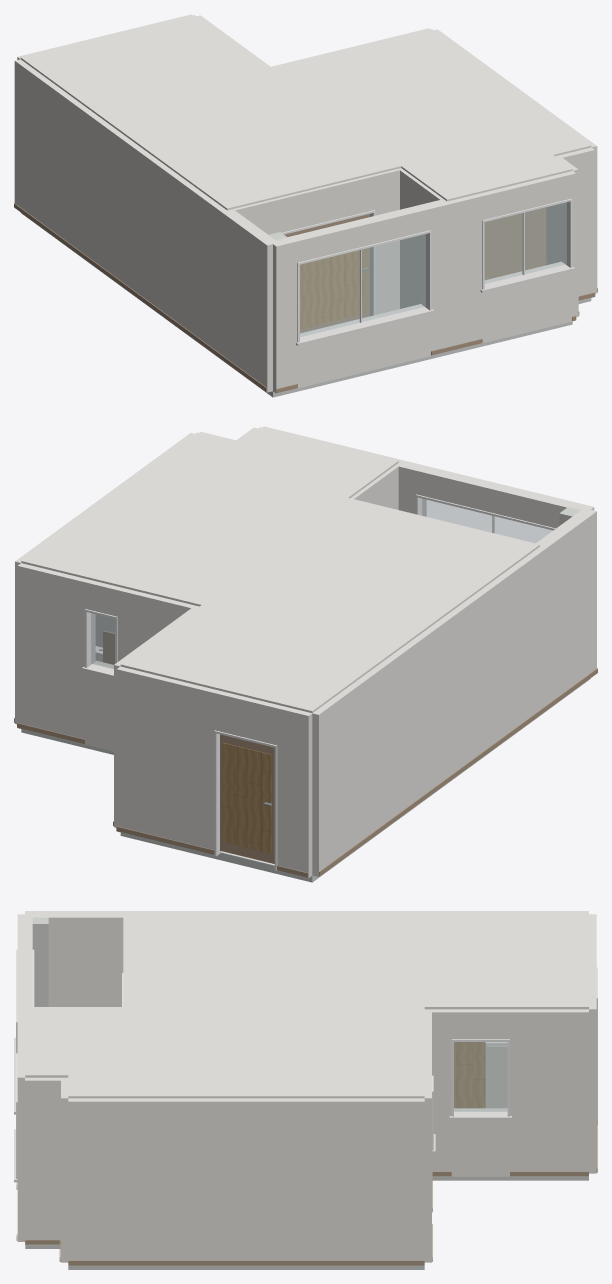
File: option-05.glb
The picture shows the model from 3 angles, top to bottom: view 1: azimuth 30°, elevation 25°; view 2: azimuth 150°, elevation 25°; view 3: azimuth 270°, elevation 25°; orthographic projection. The views are drawn at different scales.
Parts seen in each view (by area): view 1: 一居05_architecture_plaster, 一居05_ceiling_plaster, 一居05_glass_glass, 门扇_bal-door_oak, 一居05_furniture_wood, 一居05_frames_ceramic, 一居05_frames_marble, 一居05_trim_wood, 一居05_slab_slab, 门扇_bal-door_wood; view 2: 一居05_architecture_plaster, 一居05_ceiling_plaster, 门扇_entry_oak, 一居05_glass_glass, 一居05_frames_ceramic, 一居05_trim_wood, 一居05_slab_slab, 门扇_entry_wood; view 3: 一居05_architecture_plaster, 一居05_ceiling_plaster, 一居05_glass_glass, 一居05_trim_wood, 一居05_slab_slab, 门扇_kit-door_oak, 一居05_frames_ceramic, 一居05_architecture_walltop, 一居05_furniture_linen, 一居05_frames_marble.
Part boxes in pixels (x1,y1,x2,y2): 一居05_architecture_plaster: (14, 14, 597, 393); 一居05_ceiling_plaster: (20, 15, 591, 210); 一居05_glass_glass: (300, 202, 566, 336); 门扇_bal-door_oak: (300, 248, 365, 328); 一居05_furniture_wood: (484, 207, 546, 279); 一居05_frames_ceramic: (281, 198, 572, 342); 一居05_frames_marble: (296, 261, 574, 345); 一居05_trim_wood: (14, 203, 597, 393); 一居05_slab_slab: (20, 212, 591, 397); 门扇_bal-door_wood: (284, 214, 369, 333); 一居05_architecture_plaster: (15, 426, 596, 878); 一居05_ceiling_plaster: (21, 427, 539, 713); 门扇_entry_oak: (222, 742, 271, 853); 一居05_glass_glass: (91, 499, 552, 668); 一居05_frames_ceramic: (84, 494, 555, 870); 一居05_trim_wood: (14, 668, 597, 877); 一居05_slab_slab: (21, 678, 590, 882); 门扇_entry_wood: (220, 734, 274, 863); 一居05_architecture_plaster: (17, 911, 596, 1265); 一居05_ceiling_plaster: (25, 912, 588, 1098); 一居05_glass_glass: (454, 1042, 507, 1111); 一居05_trim_wood: (16, 1119, 597, 1265); 一居05_slab_slab: (25, 1176, 588, 1269); 门扇_kit-door_oak: (454, 1042, 485, 1108); 一居05_frames_ceramic: (16, 949, 597, 1178); 一居05_architecture_walltop: (29, 917, 48, 1006); 一居05_furniture_linen: (486, 1045, 507, 1108); 一居05_frames_marble: (14, 1037, 511, 1182).
Size of the model in its own units: 6.86 by 2.91 by 8.85.
Materials: 18 (2 with a texture image).
